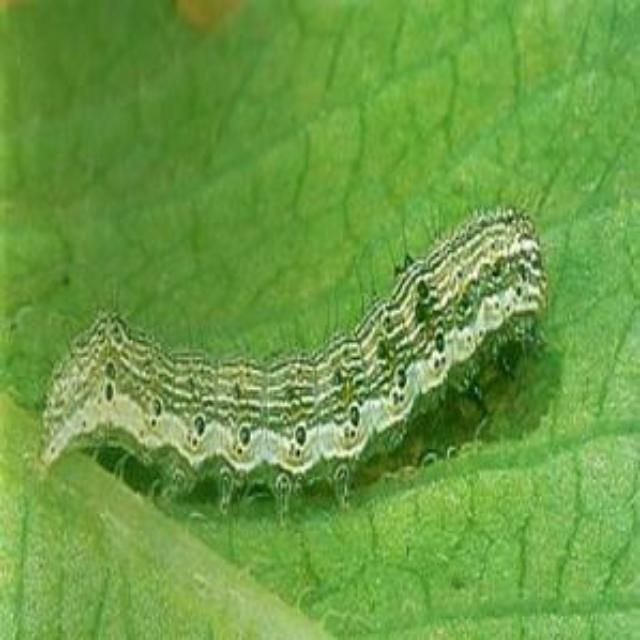Cotton bollworm: (24, 196, 562, 522)
